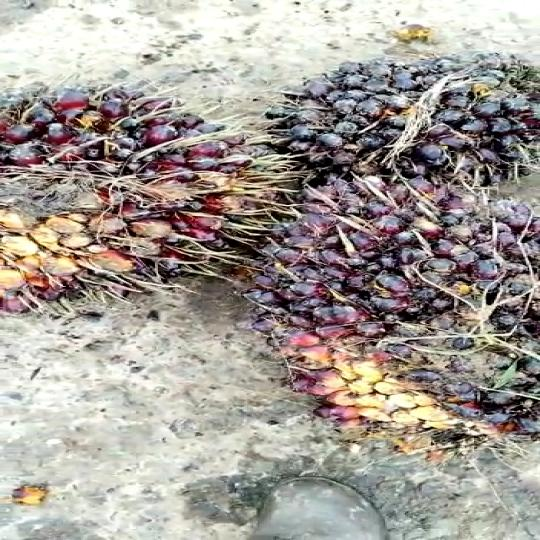kurang masak: (233, 172, 540, 472), (0, 76, 297, 335), (246, 52, 540, 195)
